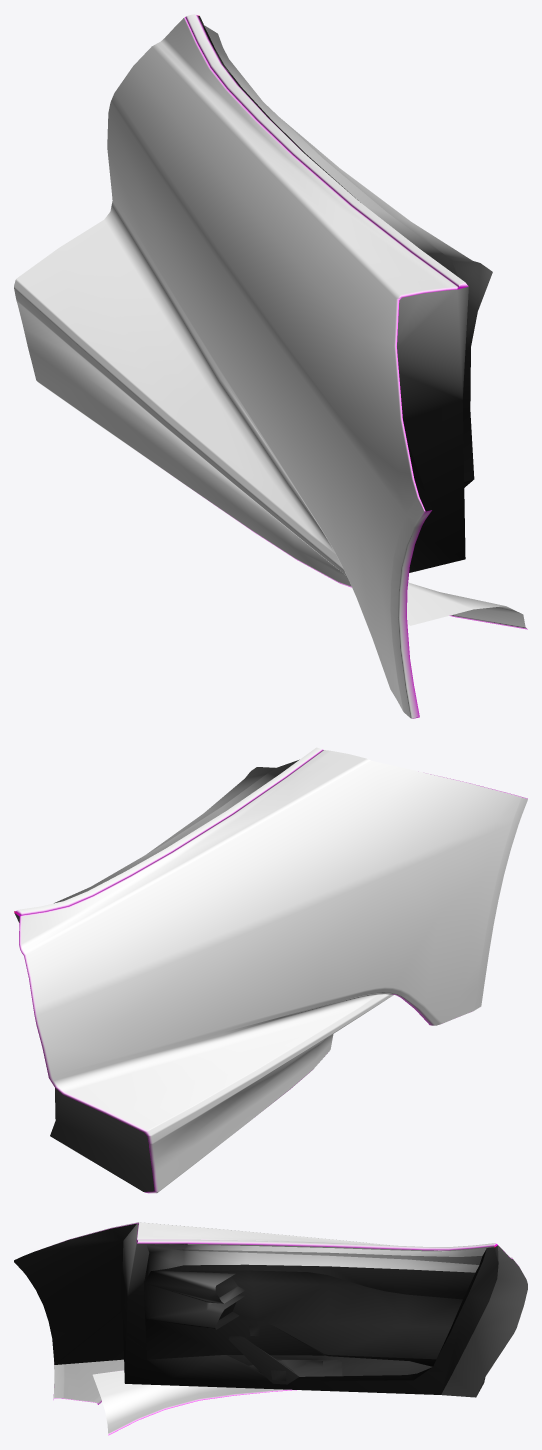
File: Car_Ford_GT_2017_DoorR_SetA.fbx
3 views of the same model, one above another, from view 1: azimuth 30°, elevation 25°; view 2: azimuth 150°, elevation 25°; view 3: azimuth 270°, elevation 25° (orthographic). The views are drawn at different scales.
Parts seen in each view (by area): view 1: DoorR 6; view 2: DoorR 6; view 3: DoorR 6.
Part boxes in pixels (box(x1,y1,x2,y2)): DoorR 6: box(14, 14, 527, 718); DoorR 6: box(14, 747, 527, 1193); DoorR 6: box(14, 1222, 527, 1435).
Bounding box in the file's own units: 0.4268 × 0.66 × 1.51.
